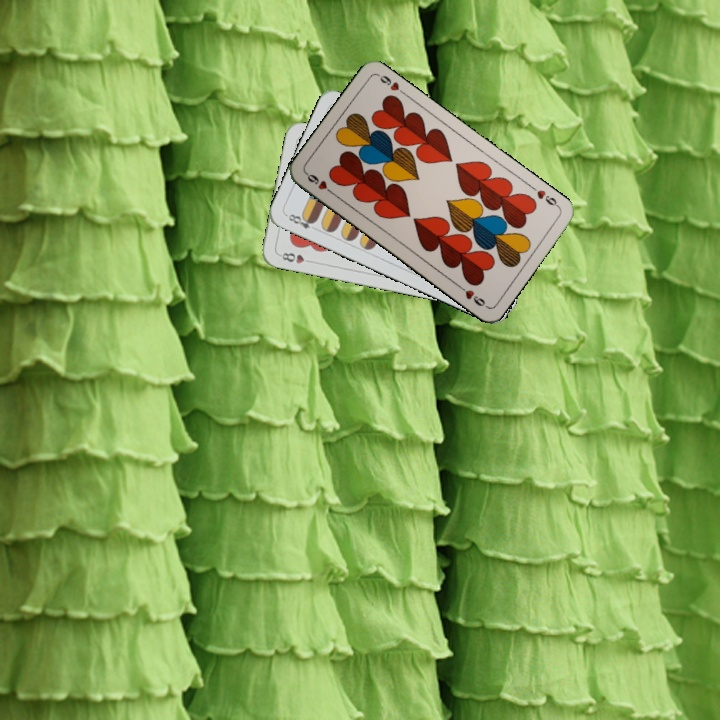E8: (282, 210, 320, 234)
H8: (275, 248, 316, 266)
H9: (302, 169, 337, 198), (527, 182, 562, 210)
